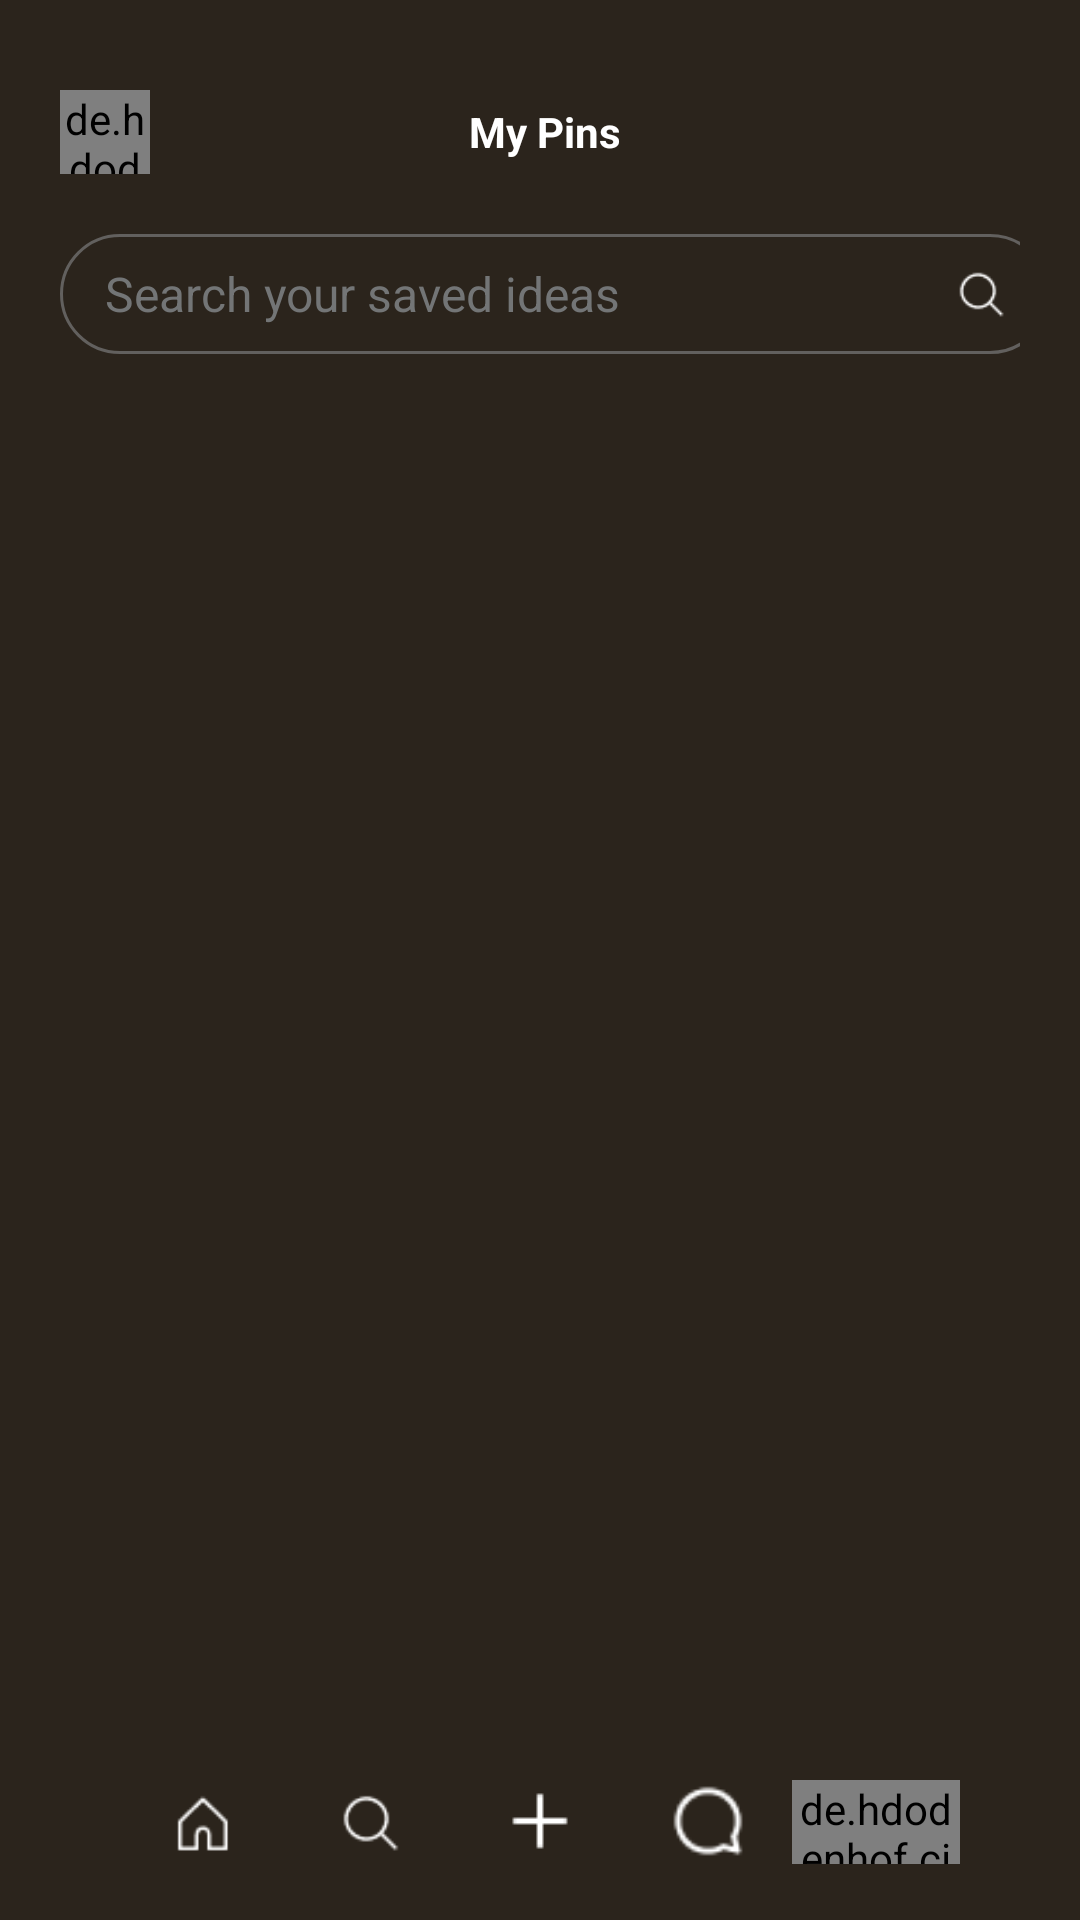

Named icons in this screenshot (1080px x 1920px) and their centers, (x=x, y=y):
comment: (x=708, y=1821)
plus: (x=540, y=1821)
